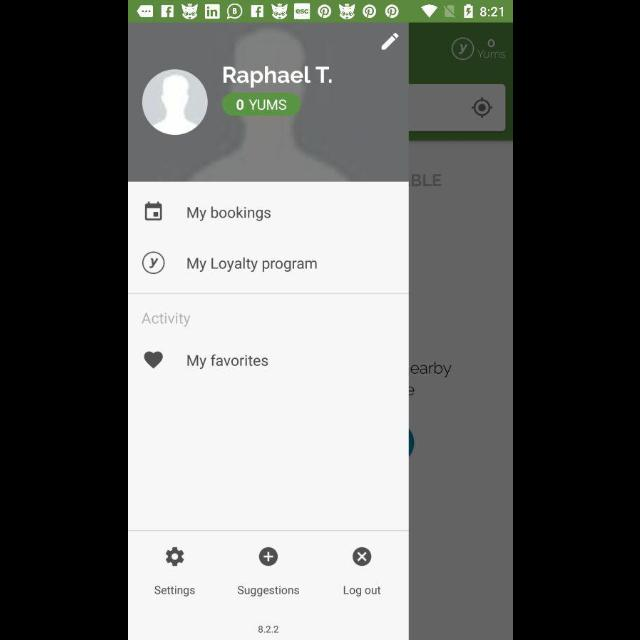icon: (141, 70, 207, 136), (258, 548, 278, 566), (164, 548, 183, 566), (352, 548, 371, 566), (380, 33, 398, 51), (144, 351, 162, 369), (144, 202, 162, 220)
image: (142, 252, 164, 274)
panel: (128, 24, 408, 640)
text: (222, 67, 332, 89), (186, 258, 316, 272), (186, 205, 270, 222), (186, 354, 268, 370), (142, 312, 190, 328), (237, 585, 299, 597), (153, 585, 195, 597), (342, 585, 380, 597), (256, 624, 278, 632)
textbutton: (222, 93, 300, 117)
uppertaskbar: (128, 1, 512, 23)
